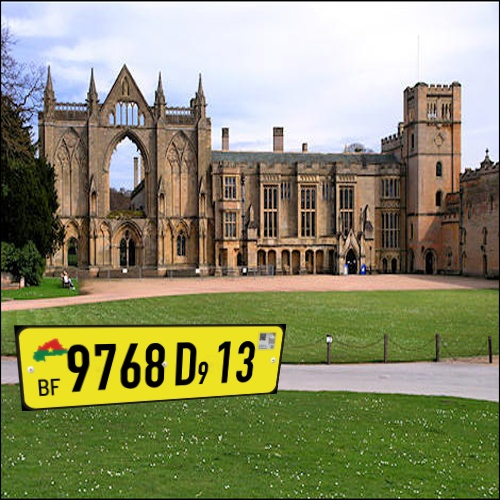plate: (8, 310, 290, 415)
